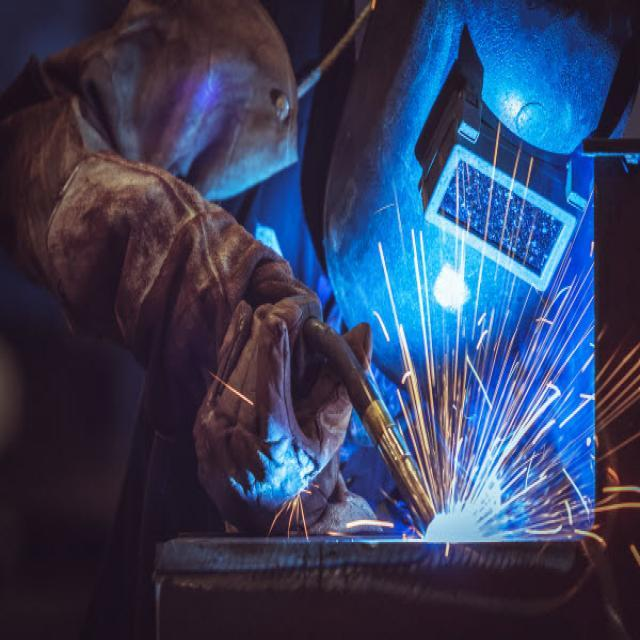with_helmet: (324, 0, 625, 363)
